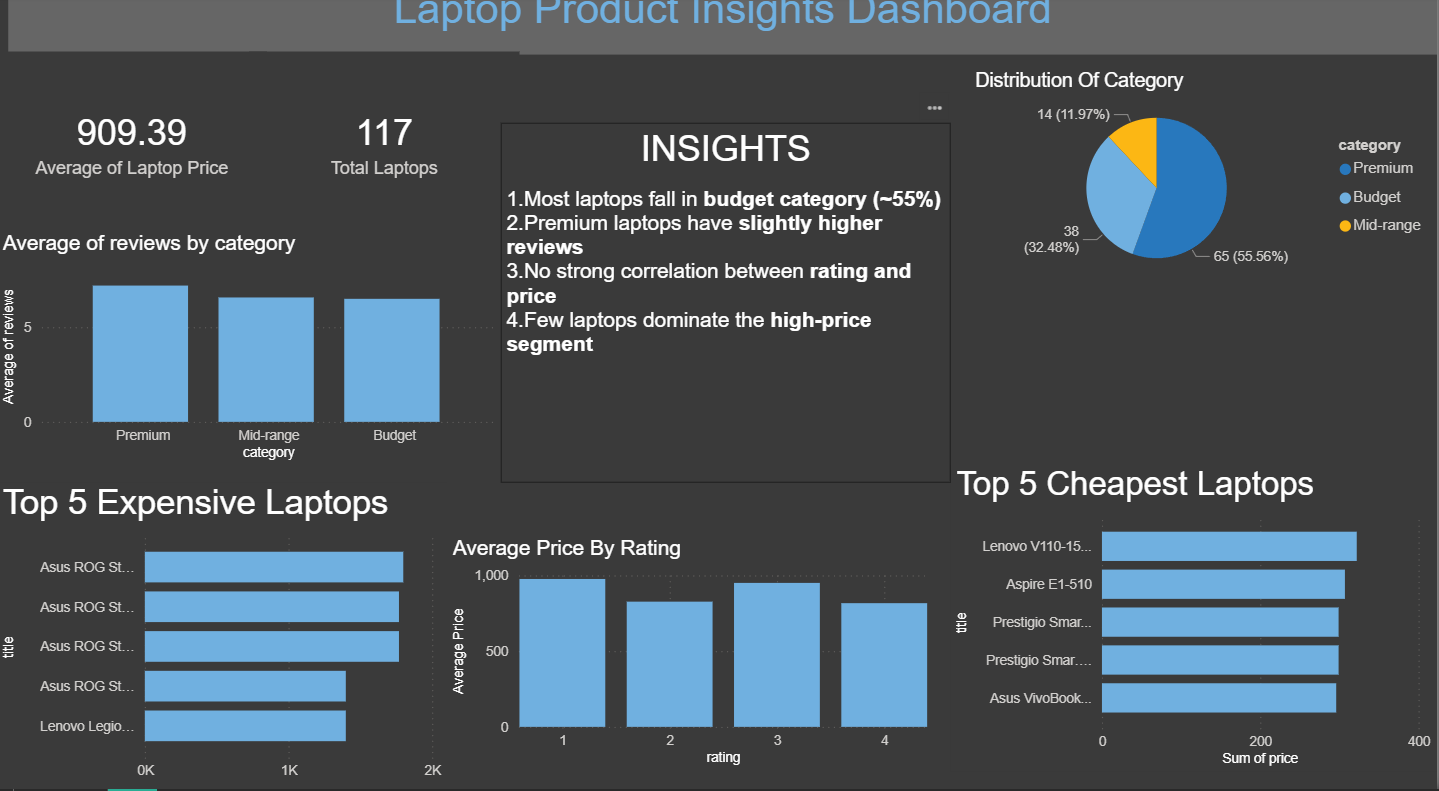

This screenshot's page, from the dashboard's own definition file:
{"tool":"powerbi","page":{"name":"Page 1","canvas":[1280,720],"ordinal":0},"visuals":[{"type":"textbox","box":[10.2,0,1270.3,66.9],"z":0},{"type":"card","fields":{"Values":["Avg(avg laptop price.AVG LAPTOP PRICE)"]},"box":[0,80,240,144.4],"z":1000},{"type":"card","title":"Total Laptops","fields":{"Values":["Sum(total laptops.total_laptops)"]},"box":[224.4,80,240,144.4],"z":2000},{"type":"clusteredBarChart","title":"Top 5 Expensive Laptops","fields":{"Category":["top 5 laptops.title"],"Y":["Sum(top 5 laptops.price)"]},"box":[0,448,400,272],"z":3000},{"type":"clusteredColumnChart","title":"Average Price By Rating","fields":{"Category":["rating+avgprice.rating"],"Y":["Sum(rating+avgprice.AVG(price))"]},"box":[400,496,432,208],"z":4000},{"type":"clusteredBarChart","title":"Top 5 Cheapest Laptops","fields":{"Category":["cheap 5 laptops.title"],"Y":["Sum(cheap 5 laptops.price)"]},"box":[848,432,432,272],"z":5000},{"type":"pieChart","title":"Distribution Of Category","fields":{"Category":["Laptop Category.category"],"Y":["Sum(Laptop Category.count)"]},"box":[864,80,416,192],"z":6000},{"type":"clusteredColumnChart","fields":{"Y":["Avg(laptop classification and avg riview.avg_reviews)"],"Category":["laptop classification and avg riview.category"]},"box":[0,224,448,208],"z":7000},{"type":"textbox","box":[448,128,400,240],"z":8000}]}

Visuals, with their boxes in screenshot pixels (x1, y1, x2, y2), scaled from the page's 1280x720 canvas onto the 1439x791 screenshot:
textbox: [x1=11, y1=0, x2=1438, y2=73]
card - Avg(avg laptop price.AVG LAPTOP PRICE): [x1=0, y1=88, x2=270, y2=247]
"Total Laptops" card: [x1=252, y1=88, x2=522, y2=247]
"Top 5 Expensive Laptops" clusteredBarChart: [x1=0, y1=492, x2=450, y2=790]
"Average Price By Rating" clusteredColumnChart: [x1=450, y1=545, x2=935, y2=773]
"Top 5 Cheapest Laptops" clusteredBarChart: [x1=953, y1=475, x2=1438, y2=773]
"Distribution Of Category" pieChart: [x1=971, y1=88, x2=1438, y2=299]
clusteredColumnChart - Avg(laptop classification and avg riview.avg_reviews) x laptop classification and avg riview.category: [x1=0, y1=246, x2=504, y2=475]
textbox: [x1=504, y1=141, x2=953, y2=404]
